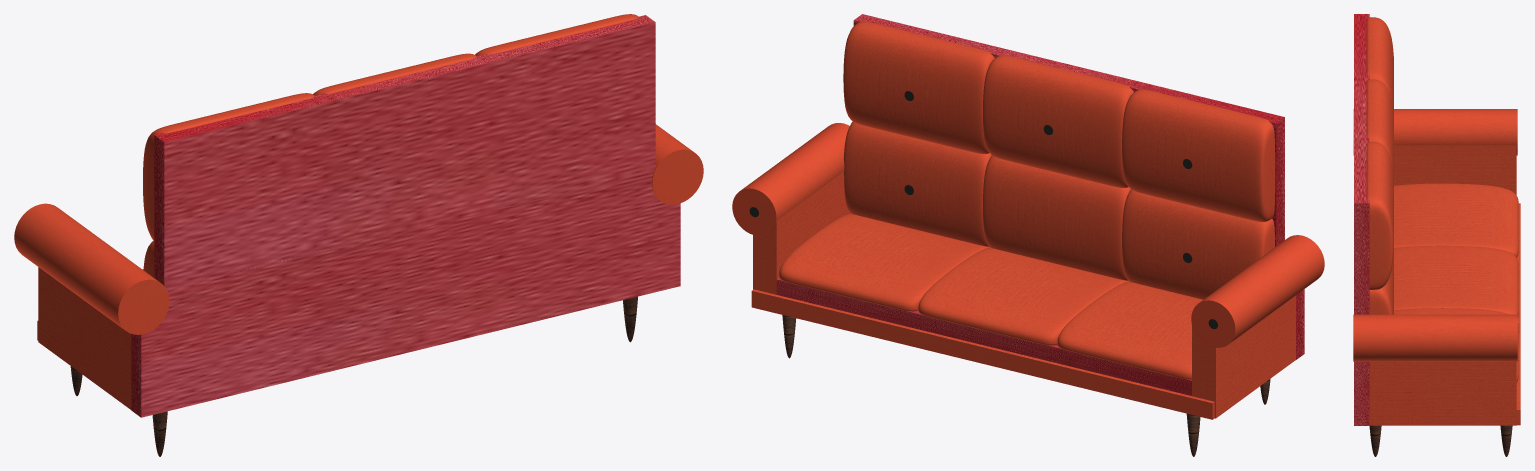
File: sofah.obj
The picture shows the model from 3 angles, left to right: view 1: azimuth 30°, elevation 25°; view 2: azimuth 150°, elevation 25°; view 3: azimuth 270°, elevation 25°; orthographic projection. The views are drawn at different scales.
Parts seen in each view (by area): view 1: Cube.005, Cube.004, Cylinder.001, Cube.003, Cylinder, arriba_3.003, arriba_3.004, arriba_1.001; view 2: arriba_3.003, arriba_3.004, arriba_1.001, arriba_1, arriba_3.001, abajo1, abajo3.001, arriba_3.002, abajo3, base.001, Cylinder.001, Cube.003 (+5 smaller); view 3: Cube.002, Cylinder, abajo1, abajo3, Cube.003, Cylinder.001, Cube.005, arriba_3.004, arriba_3.003, arriba_1.001, Cube.004, abajo3.001 (+4 smaller).
Part boxes in pixels (box(x1,y1,x2,y2)): Cube.005: box(154, 15, 655, 289); Cube.004: box(131, 171, 680, 417); Cylinder.001: box(14, 203, 169, 334); Cube.003: box(38, 267, 131, 409); Cylinder: box(652, 124, 703, 204); arriba_3.003: box(143, 93, 314, 240); arriba_3.004: box(475, 14, 638, 55); arriba_1.001: box(313, 53, 476, 95); arriba_3.003: box(1122, 89, 1275, 221); arriba_3.004: box(843, 21, 994, 153); arriba_1.001: box(983, 55, 1133, 187); arriba_1: box(983, 155, 1130, 280); arriba_3.001: box(843, 121, 991, 246); abajo1: box(918, 247, 1128, 345); abajo3.001: box(779, 213, 989, 311); arriba_3.002: box(1122, 189, 1275, 299); abajo3: box(1057, 281, 1202, 379); base.001: box(751, 289, 1214, 419); Cylinder.001: box(1191, 235, 1324, 347); Cube.003: box(1192, 295, 1295, 418); Cube.002: box(1369, 361, 1516, 425); Cylinder: box(1353, 314, 1517, 361); abajo1: box(1394, 245, 1518, 317); abajo3: box(1394, 183, 1518, 257); Cube.003: box(1394, 145, 1516, 194); Cylinder.001: box(1353, 109, 1517, 155); Cube.005: box(1354, 14, 1369, 314); arriba_3.004: box(1366, 142, 1393, 289); arriba_3.003: box(1366, 17, 1393, 118); arriba_1.001: box(1366, 79, 1393, 180); Cube.004: box(1354, 361, 1369, 425); abajo3.001: box(1394, 308, 1518, 382).
Size of the model in its own units: 3.65 by 1.96 by 1.14.
4 materials, 4 textured.
